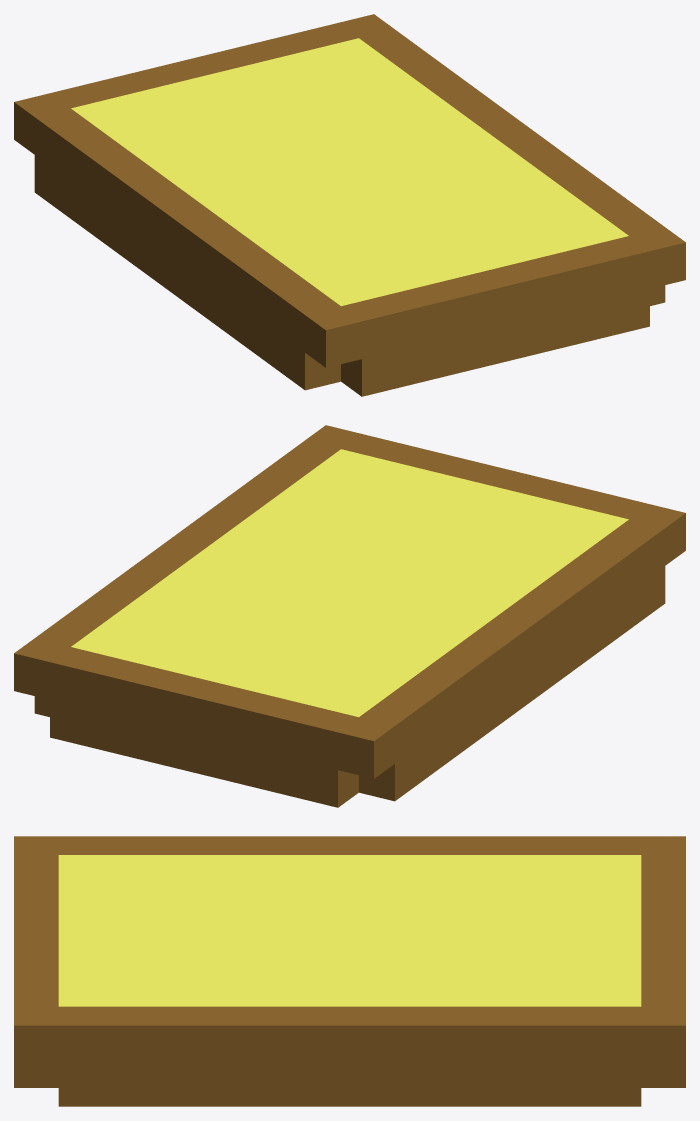
Rendered from Book A.obj.
The picture shows the model from 3 angles, top to bottom: view 1: azimuth 30°, elevation 25°; view 2: azimuth 150°, elevation 25°; view 3: azimuth 270°, elevation 25°; orthographic projection. The views are drawn at different scales.
Visible parts, largest first — view 1: Book A; view 2: Book A; view 3: Book A.
Part boxes in pixels (x1,y1,x2,y2): Book A: (14,14,685,396); Book A: (14,425,685,807); Book A: (14,836,685,1106).
Bounding box in the file's own units: 10 × 2 × 15.
